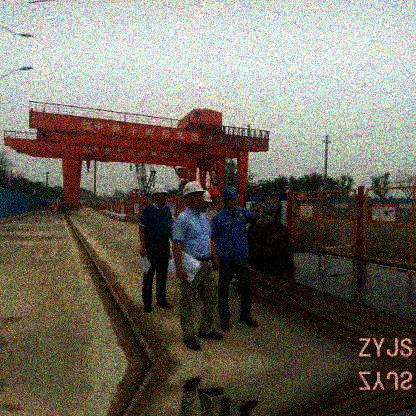helmet: (178, 183, 206, 210), (219, 187, 239, 210), (153, 183, 169, 207)
